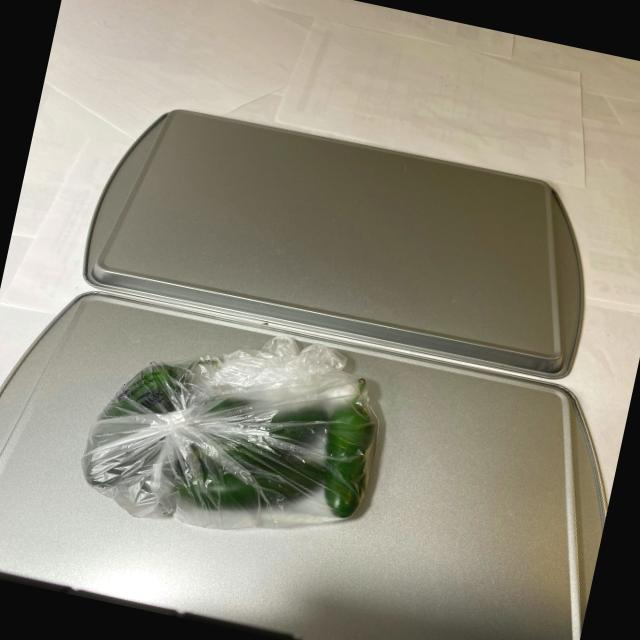chilli: (74, 323, 396, 558)
